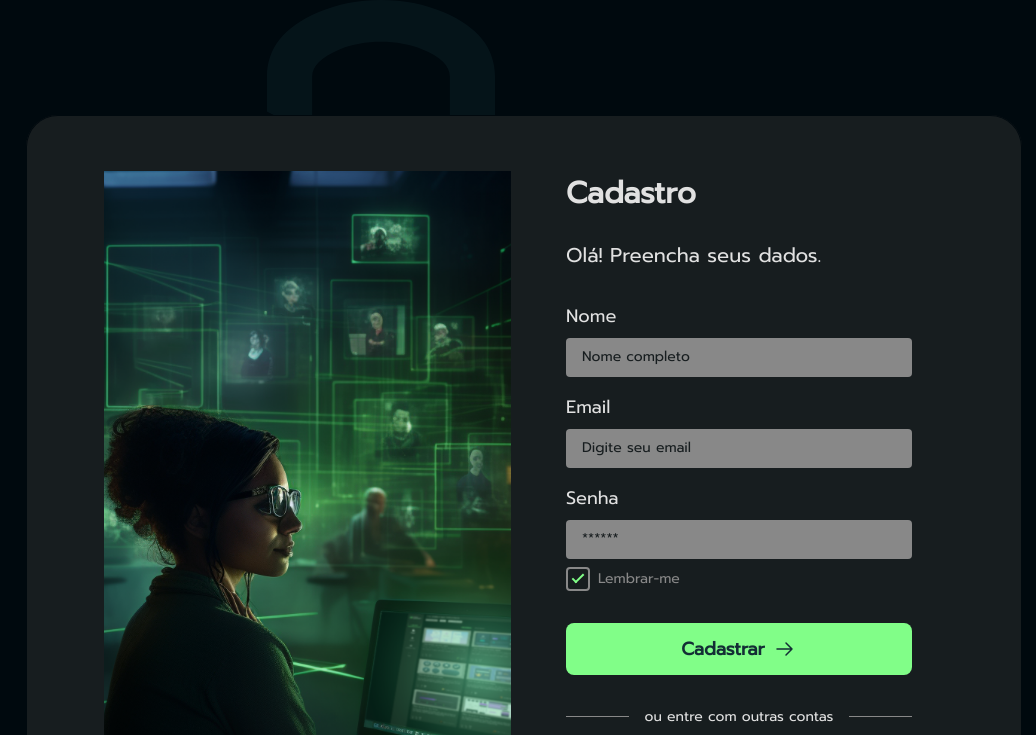
reports duplicate email and permits retry
In the field labelled "Nome": (739, 357) [566, 338, 912, 377], type "Ana Souza"
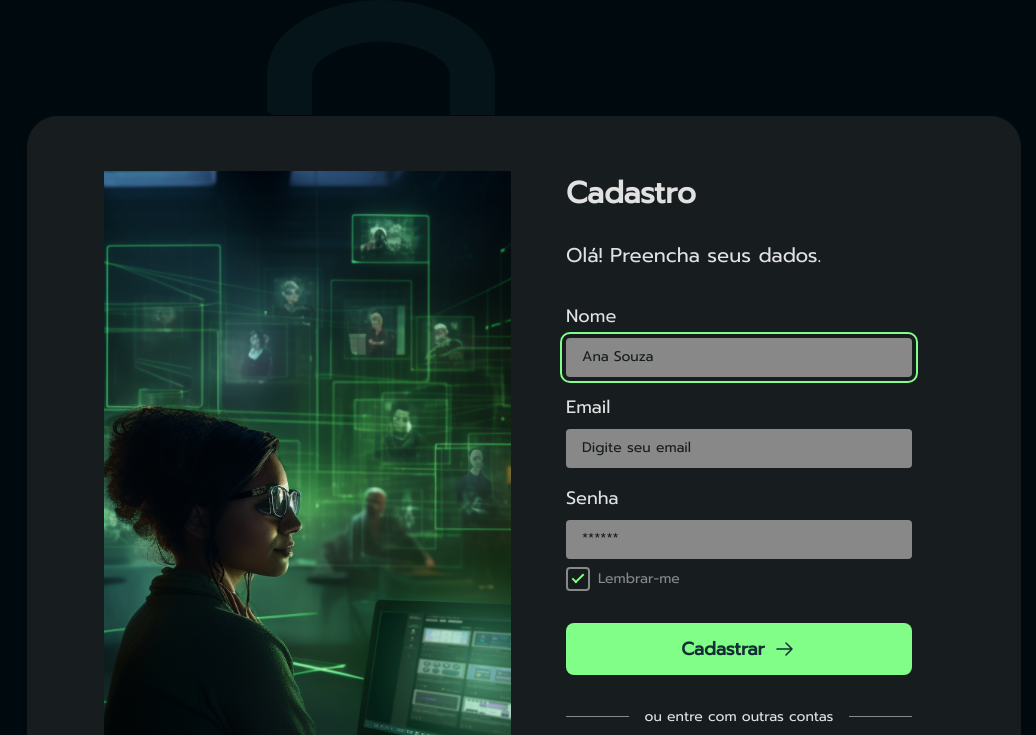
In the field labelled "Email": (739, 448) [566, 429, 912, 468], type "ana@example.com"
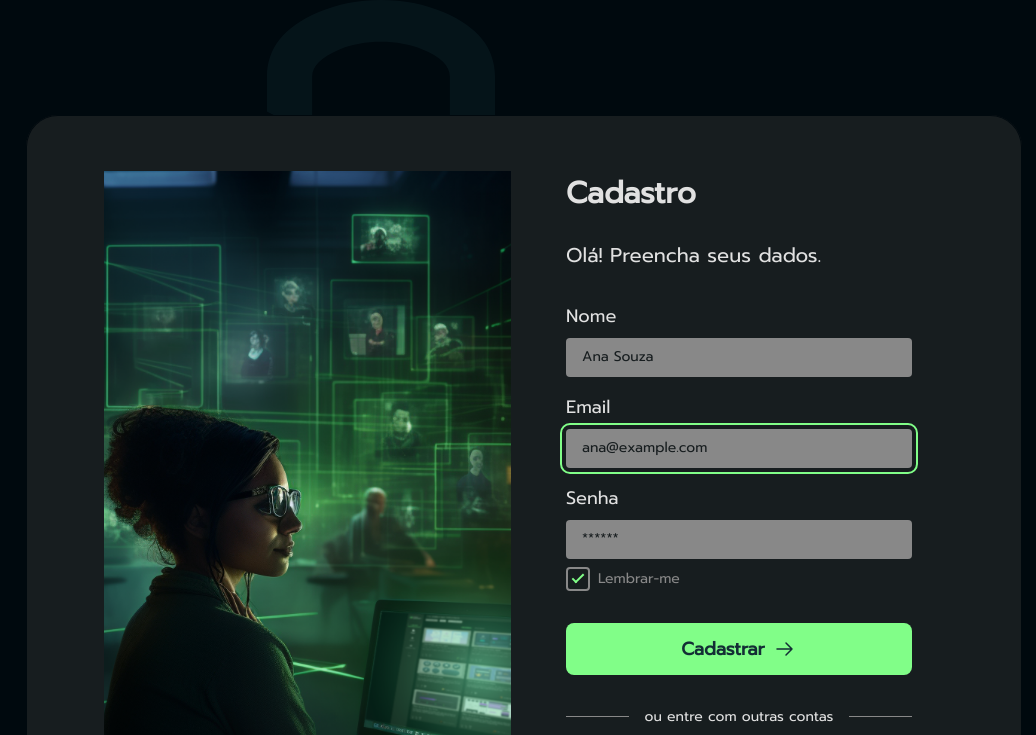
In the password field labelled "Senha": (739, 539) [566, 520, 912, 559], type "segredo123"
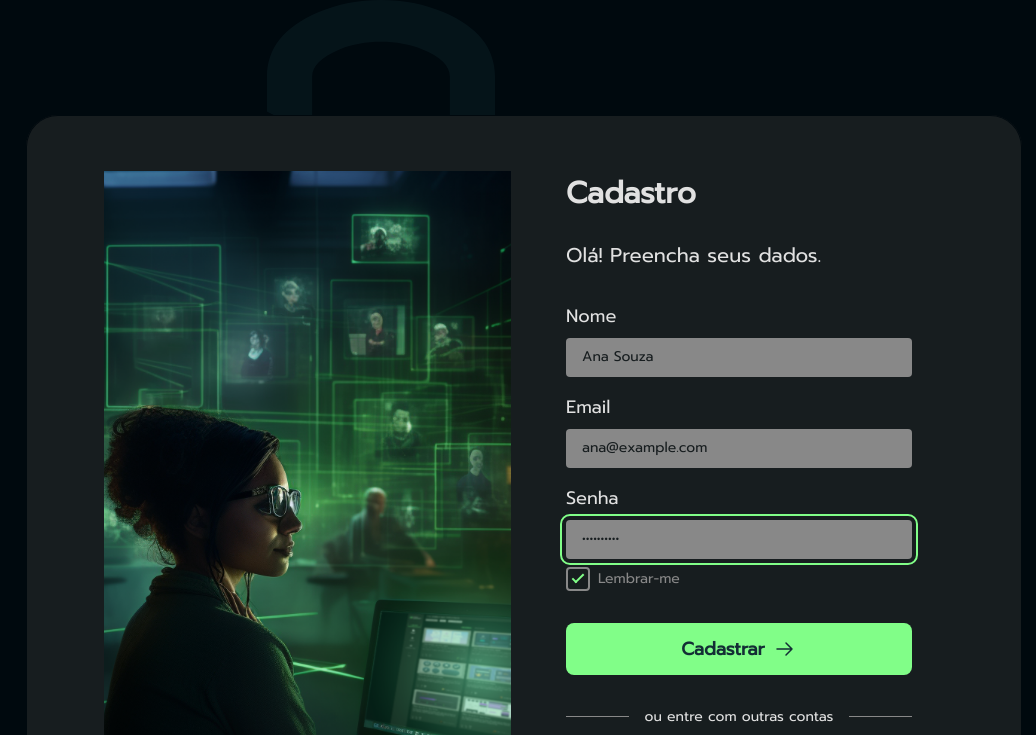
Click the button "Cadastrar": (739, 649) [566, 623, 912, 675]
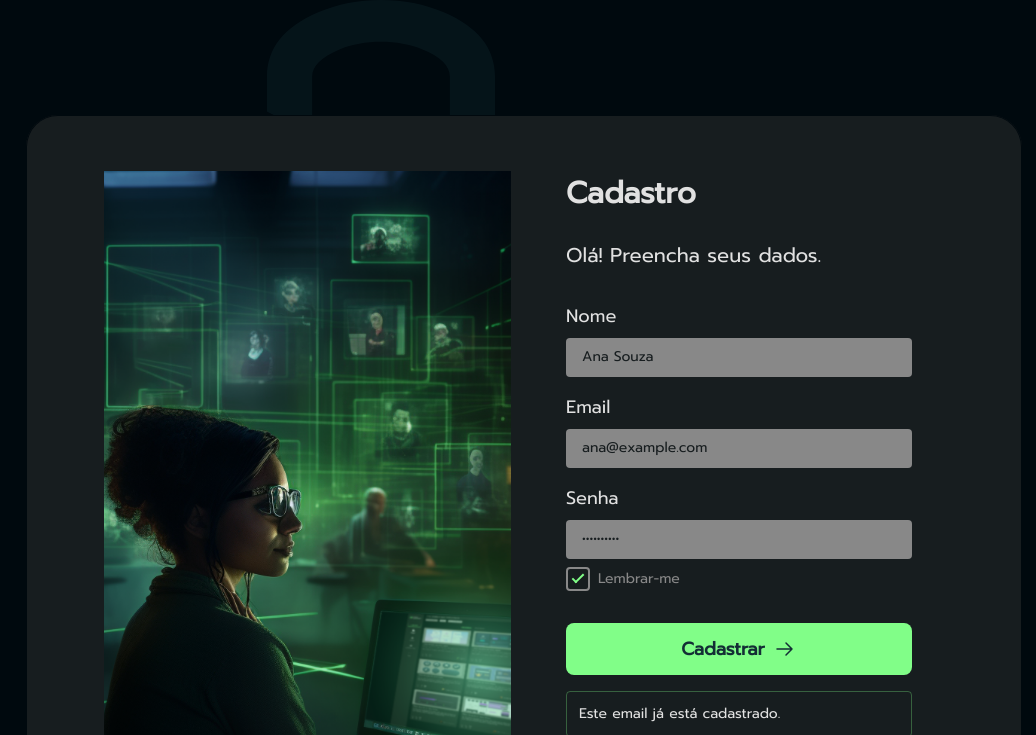
Expected: the message reads "Este email já está cadastrado.", [579, 703, 780, 724]
